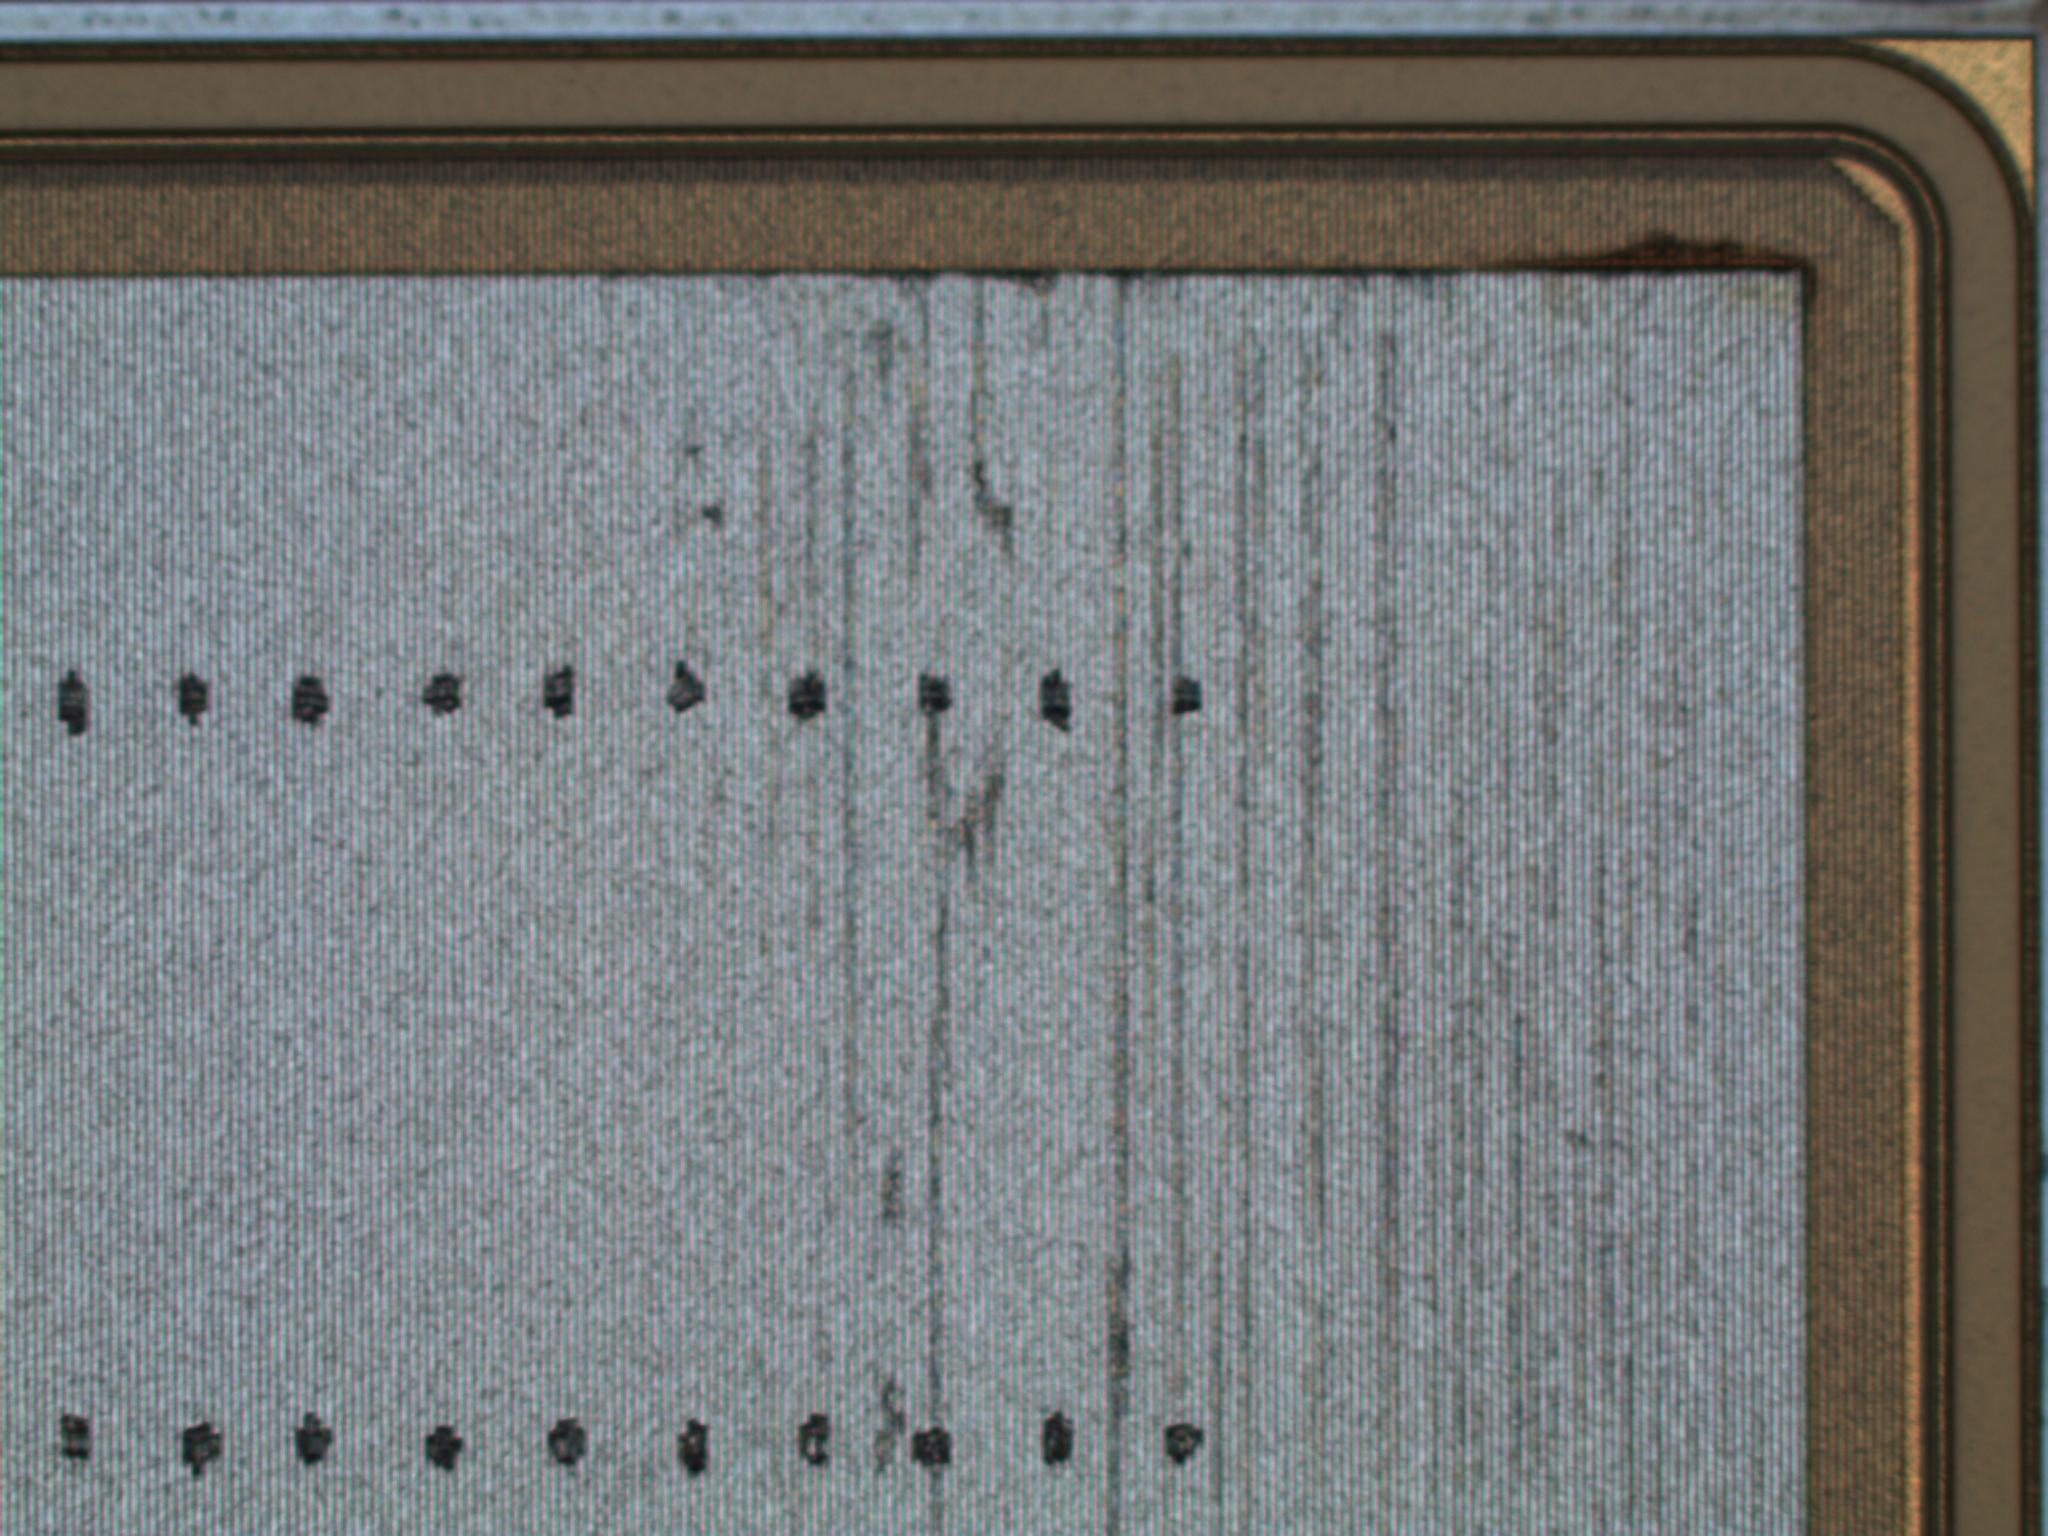SEZ BURNT: (564, 227, 1822, 1536)
